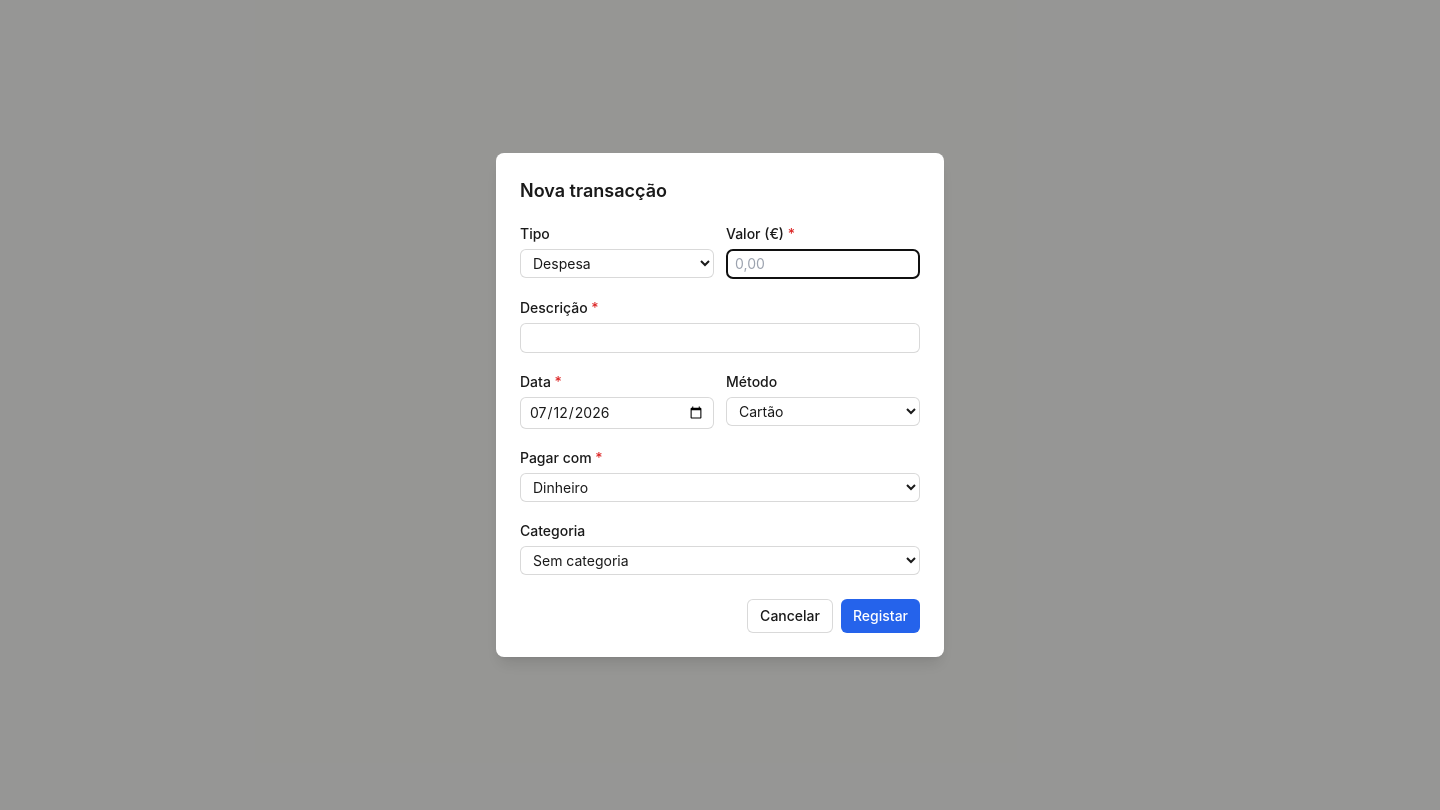
Test case: <NewTransactionModal> › valor inválido bloqueia submit e mostra erro — sem POST
This screenshot has width=1440, height=810.
Type "abc" into the field named "Valor em euros" at (823, 264), box [726,249,920,279]
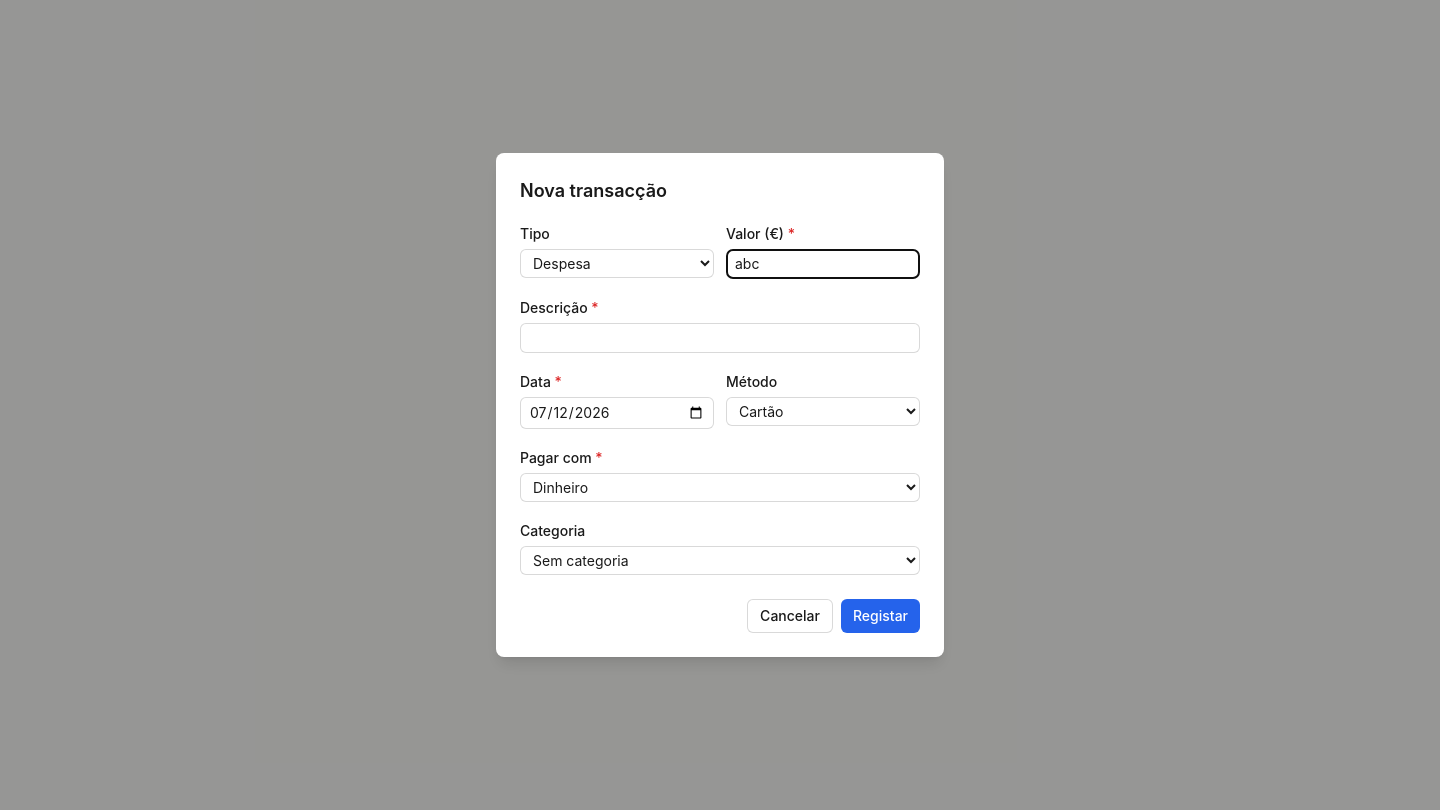
Click the button "Registar" at (880, 616), box [841,599,920,633]
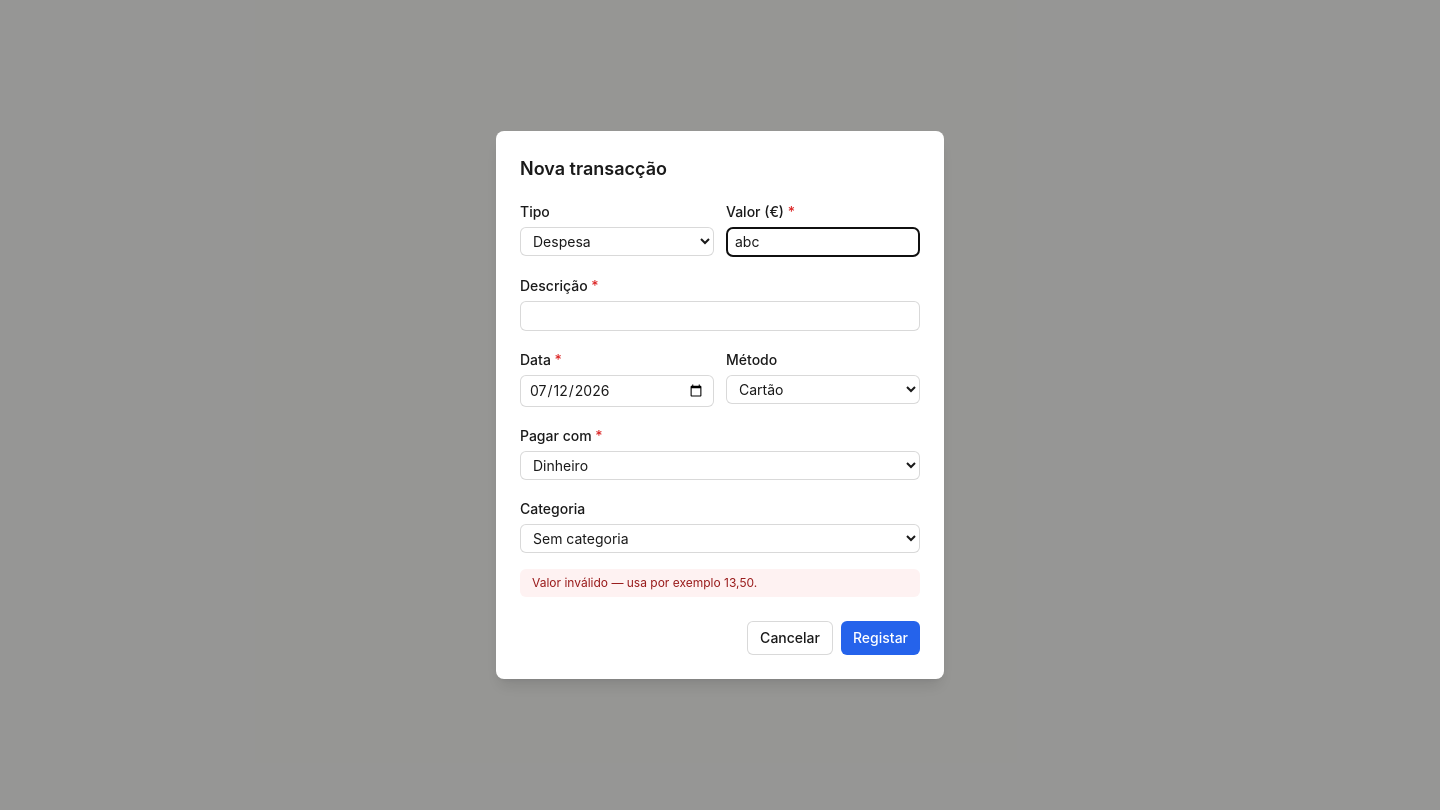
Check: the message shows "Valor inválido", box [532,575,757,590]
